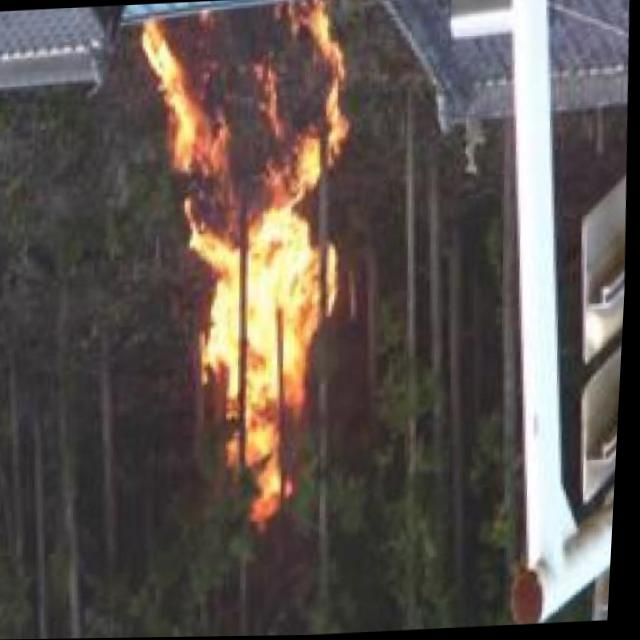Fire: (125, 0, 361, 535)
